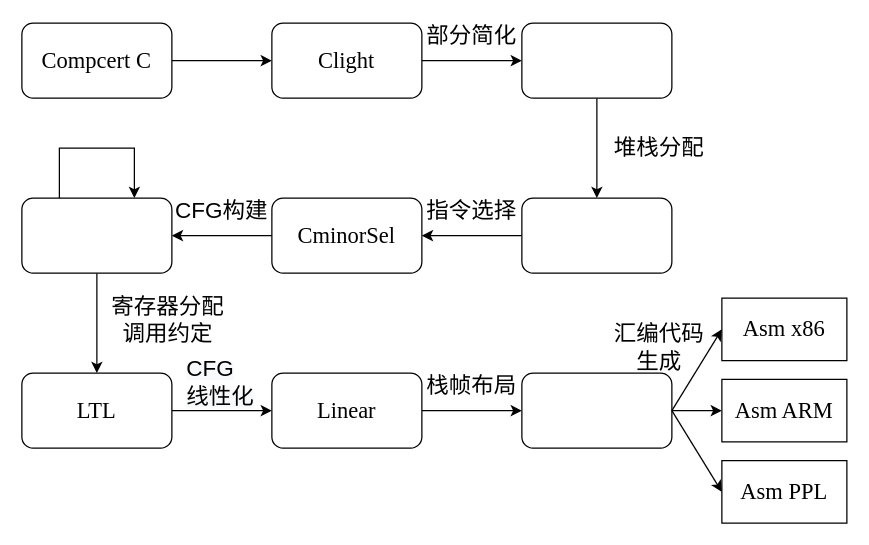
Image size: 869x545. Some labels were removed from this diagram. Each missing label, with the box of its shape:
C#minor: (521, 22, 672, 98)
Cminor: (521, 197, 672, 273)
Mach: (521, 372, 672, 448)
RTL: (21, 197, 172, 273)
